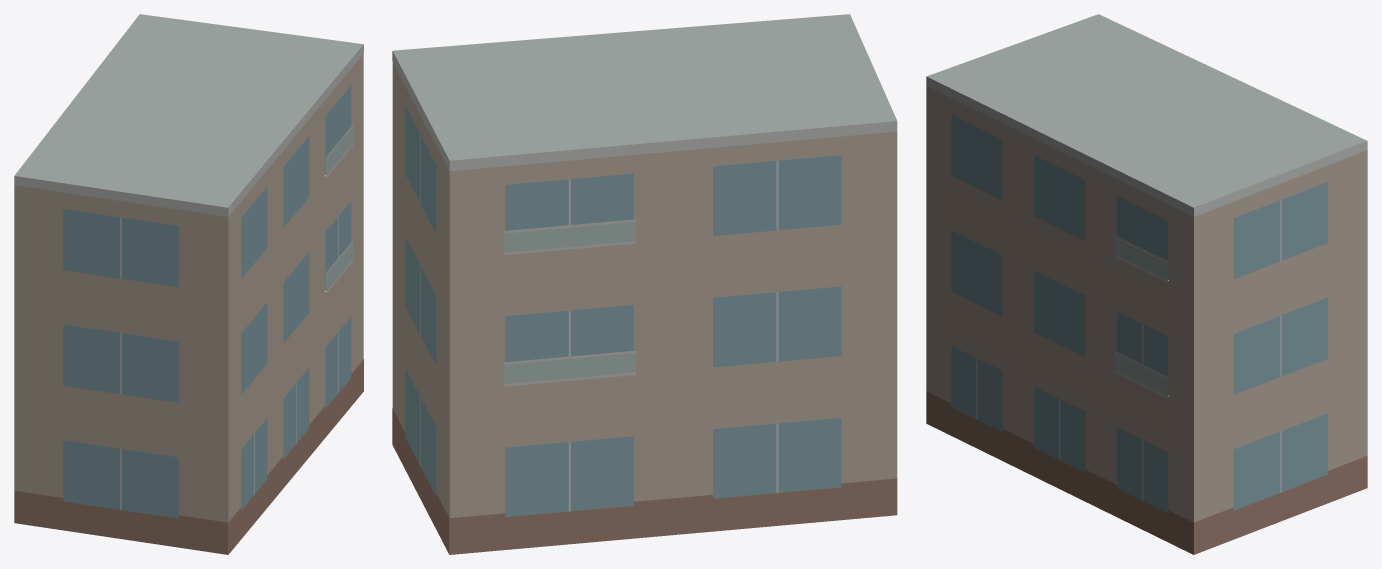
File: survey-upis-32717506.glb
3 renders of one model, left to right at view 1: azimuth 30°, elevation 25°; view 2: azimuth 150°, elevation 25°; view 3: azimuth 270°, elevation 25°, orthographic. The views are drawn at different scales.
Visible parts, largest first — view 1: survey-upis-32717506.tmp; view 2: survey-upis-32717506.tmp; view 3: survey-upis-32717506.tmp.
Part boxes in pixels (x1=…): survey-upis-32717506.tmp: x1=14, y1=14, x2=363, y2=554; survey-upis-32717506.tmp: x1=392, y1=14, x2=897, y2=554; survey-upis-32717506.tmp: x1=926, y1=14, x2=1367, y2=554.
Size of the model in its own units: 10.96 by 9.15 by 10.55.
